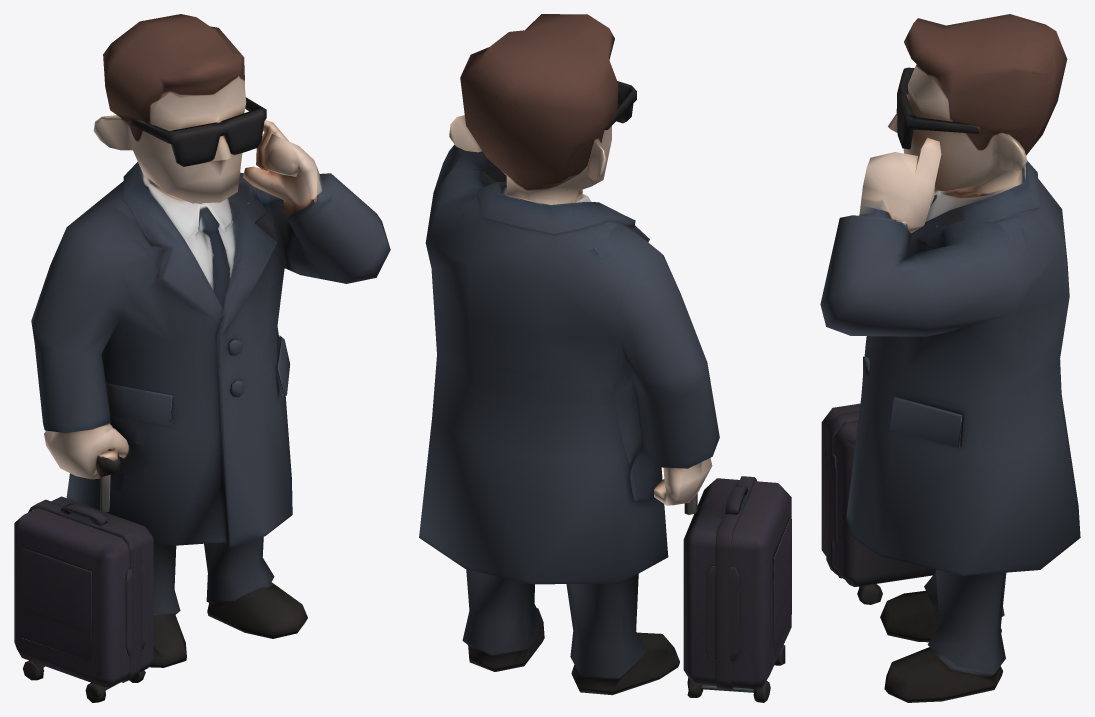
The model's file is carl.glb.
The picture shows the model from 3 angles, left to right: view 1: azimuth 30°, elevation 25°; view 2: azimuth 150°, elevation 25°; view 3: azimuth 270°, elevation 25°; orthographic projection. The views are drawn at different scales.
Visible parts, largest first — view 1: tripo_node_8115550b-d5a2-4322-840d-2d12b192336f; view 2: tripo_node_8115550b-d5a2-4322-840d-2d12b192336f; view 3: tripo_node_8115550b-d5a2-4322-840d-2d12b192336f.
Part boxes in pixels (left/top/right/bottom): tripo_node_8115550b-d5a2-4322-840d-2d12b192336f: left=14, top=14, right=390, bottom=702; tripo_node_8115550b-d5a2-4322-840d-2d12b192336f: left=419, top=14, right=791, bottom=702; tripo_node_8115550b-d5a2-4322-840d-2d12b192336f: left=820, top=14, right=1080, bottom=702.
Size of the model in its own units: 0.5906 by 0.998 by 0.3731.
1 material, 1 textured.
